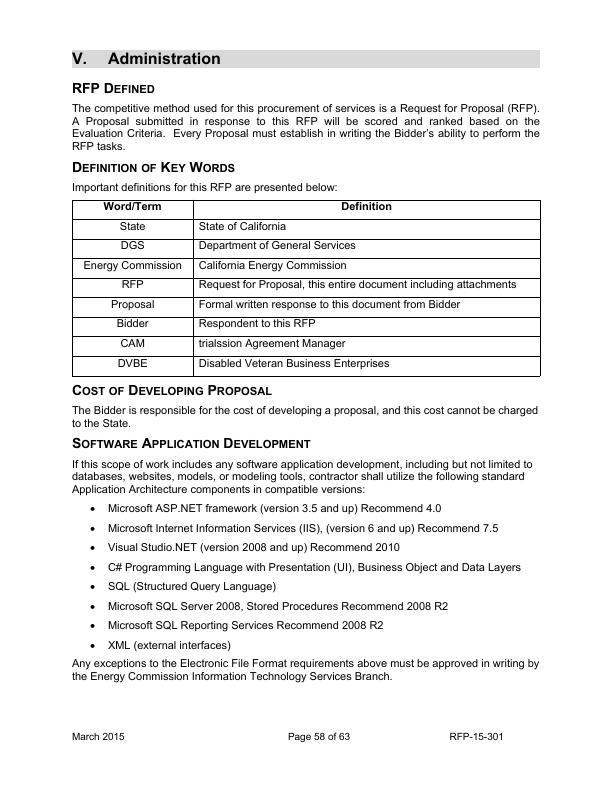table: (68, 197, 546, 380)
text: (67, 457, 542, 684), (72, 101, 544, 154), (70, 403, 542, 430), (70, 435, 315, 453), (68, 46, 227, 71), (70, 180, 339, 193), (70, 383, 274, 398), (71, 159, 237, 175), (70, 76, 157, 98)
